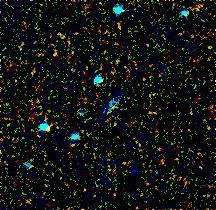star: (185, 154, 215, 184)
